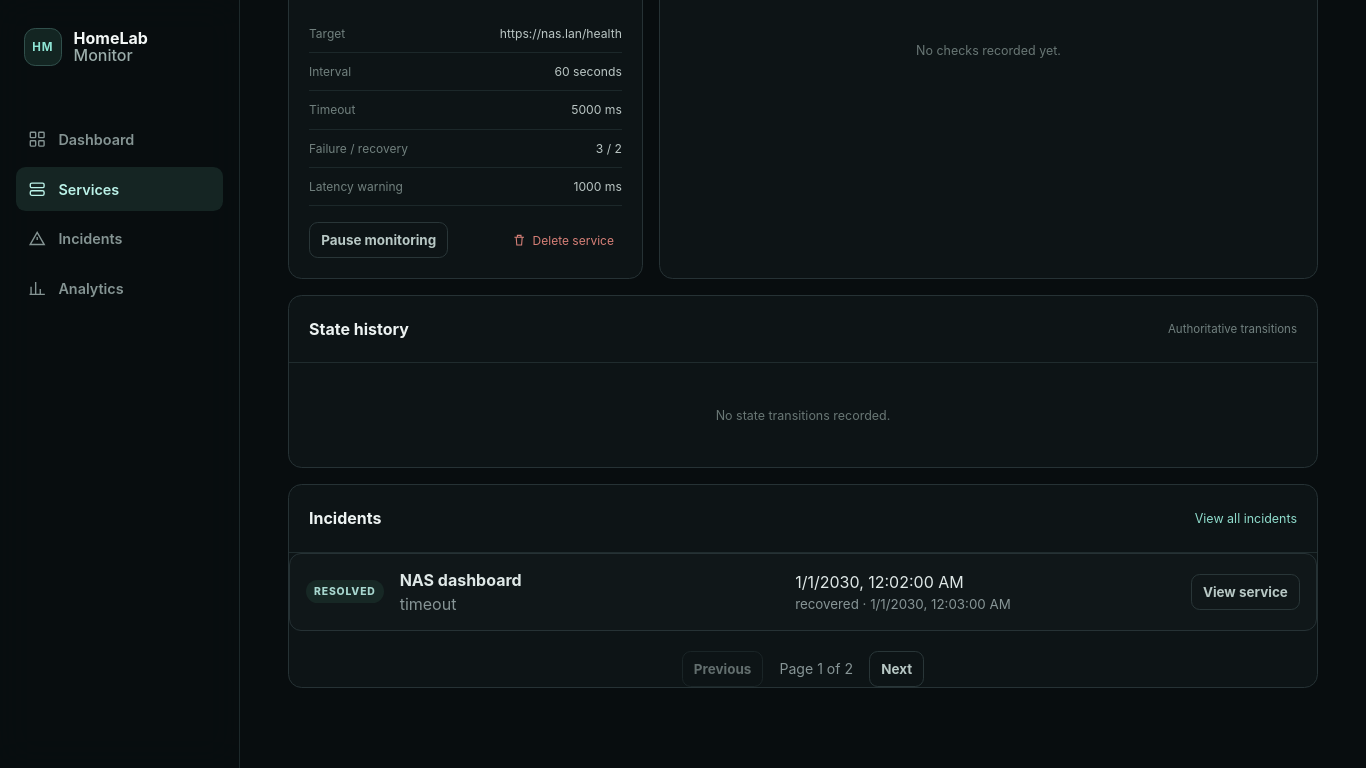
monitoring dashboard › pages through incident history on a service detail
The width and height of the screenshot is (1366, 768).
(page scrolled)
Expected: the text "Page 1 of 2" is shown, x1=780 y1=660 x2=853 y2=677
Click the button "Next". click: (897, 669)
box: x1=869 y1=651 x2=924 y2=687
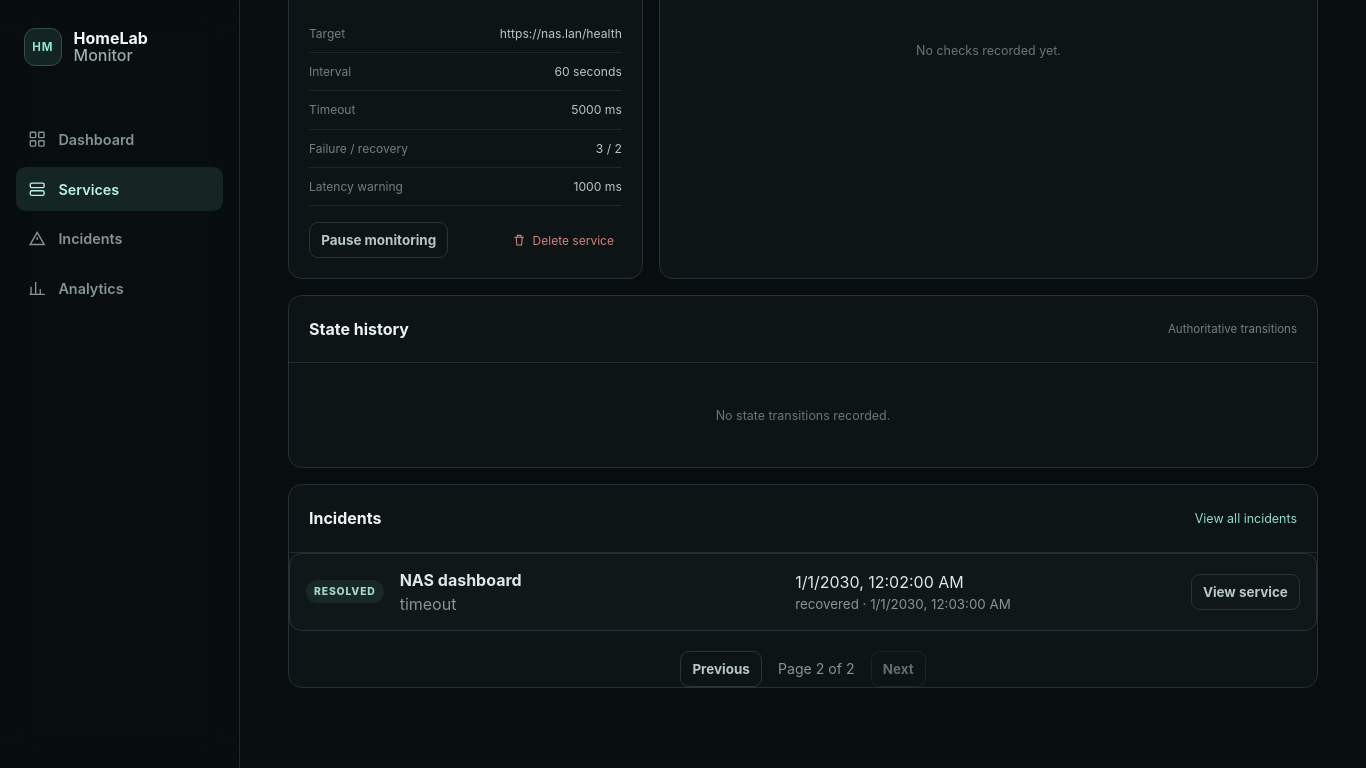
Now the text "Page 2 of 2" is shown, box x1=778 y1=660 x2=854 y2=677
